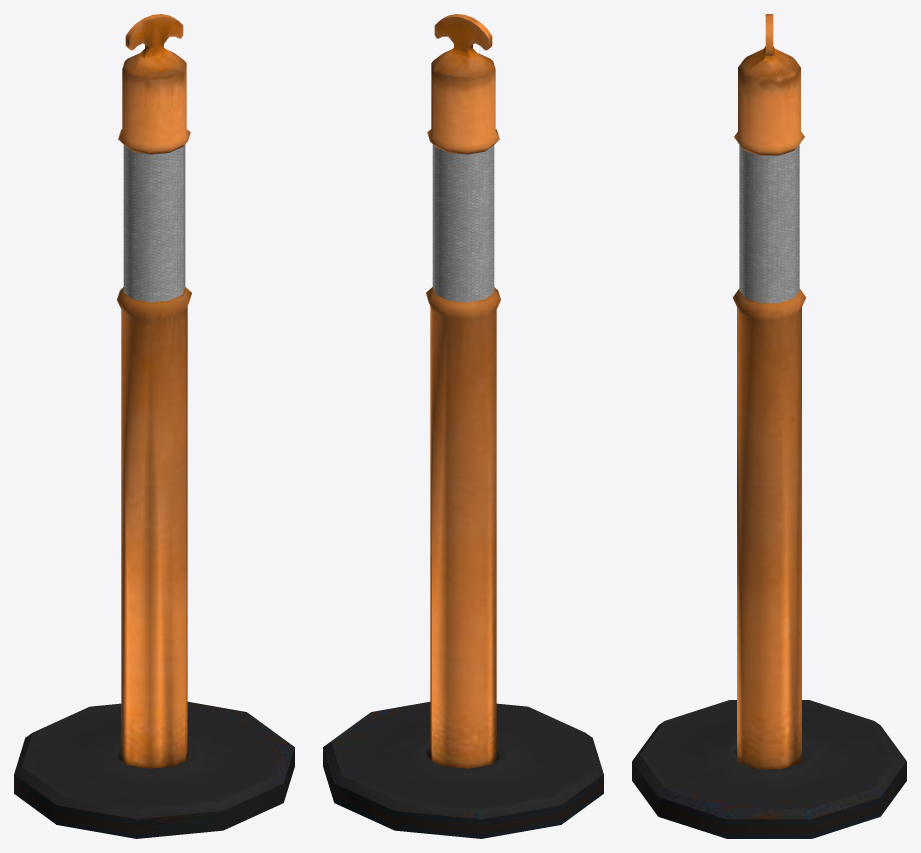
File: flexpost.glb
3 renders of one model, left to right at view 1: azimuth 30°, elevation 25°; view 2: azimuth 150°, elevation 25°; view 3: azimuth 270°, elevation 25°, orthographic.
Parts seen in each view (by area): view 1: Bollard_LOD0_w; view 2: Bollard_LOD0_w; view 3: Bollard_LOD0_w.
Boxes of the visible parts, box(x1,y1,x2,y2) form: Bollard_LOD0_w: box(14, 14, 294, 838); Bollard_LOD0_w: box(323, 14, 603, 838); Bollard_LOD0_w: box(632, 14, 906, 838).
Bounding box in the file's own units: 0.3263 × 1 × 0.3263.
1 material, 1 textured.
